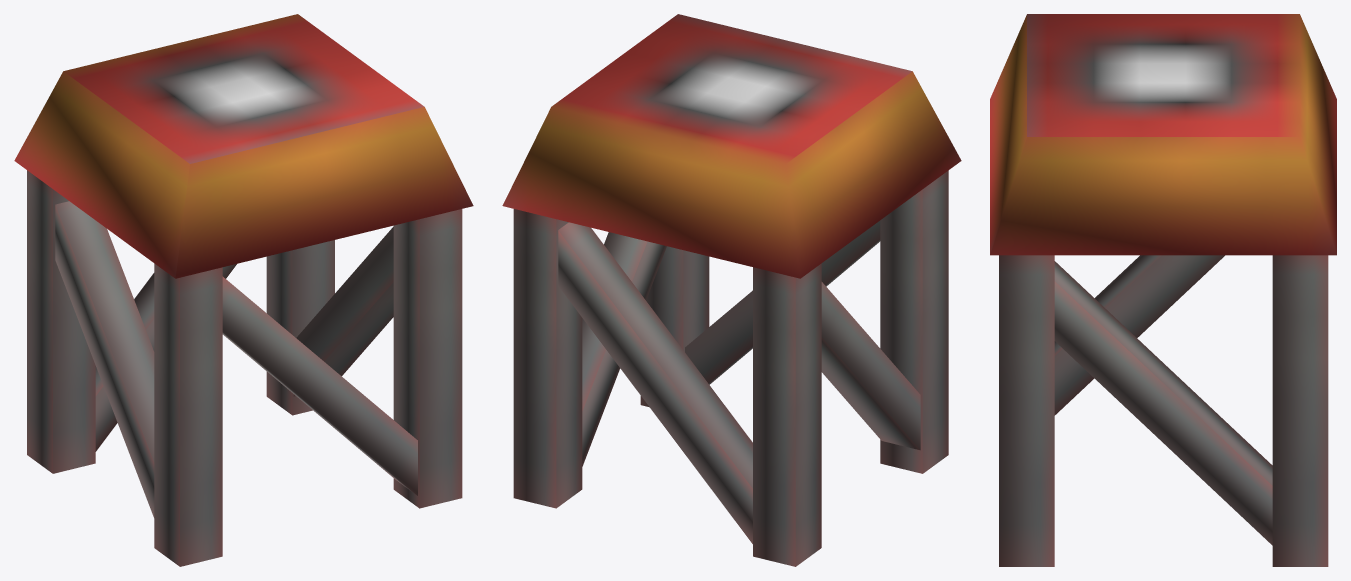
Rendered from Tower2.FBX.
3 renders of one model, left to right at view 1: azimuth 30°, elevation 25°; view 2: azimuth 150°, elevation 25°; view 3: azimuth 270°, elevation 25°, orthographic. The views are drawn at different scales.
Visible parts, largest first — view 1: Tower2; view 2: Tower2; view 3: Tower2.
Part boxes in pixels (x1,y1,x2,y2): Tower2: [14, 14, 473, 566]; Tower2: [502, 14, 961, 566]; Tower2: [990, 14, 1336, 566].
Bounding box in the file's own units: 13.41 × 16.66 × 12.55.
Materials: 1 (1 with a texture image).
